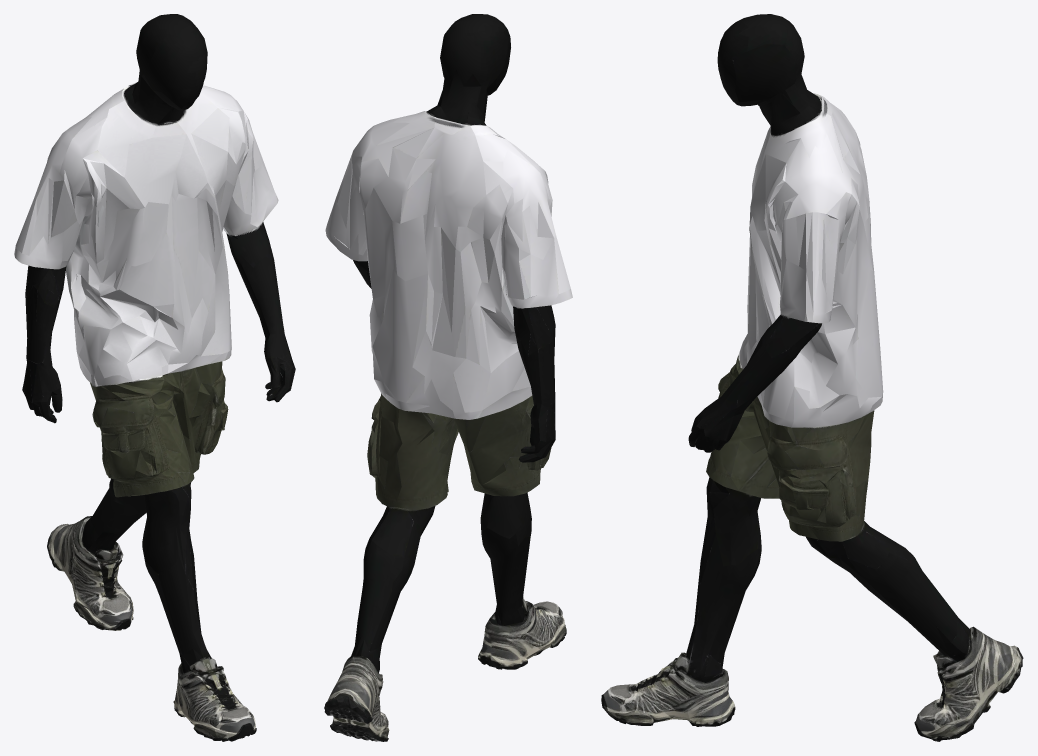
Rendered from homme-cargo.glb.
The picture shows the model from 3 angles, left to right: view 1: azimuth 30°, elevation 25°; view 2: azimuth 150°, elevation 25°; view 3: azimuth 270°, elevation 25°; orthographic projection. The views are drawn at different scales.
Visible parts, largest first — view 1: dressed; view 2: dressed; view 3: dressed.
Boxes of the visible parts, x1=… form: dressed: x1=14, y1=14, x2=295, y2=741; dressed: x1=324, y1=14, x2=572, y2=741; dressed: x1=601, y1=14, x2=1023, y2=741.
Bounding box in the file's own units: 0.7203 × 1.82 × 0.9886.
Materials: 1 (1 with a texture image).
